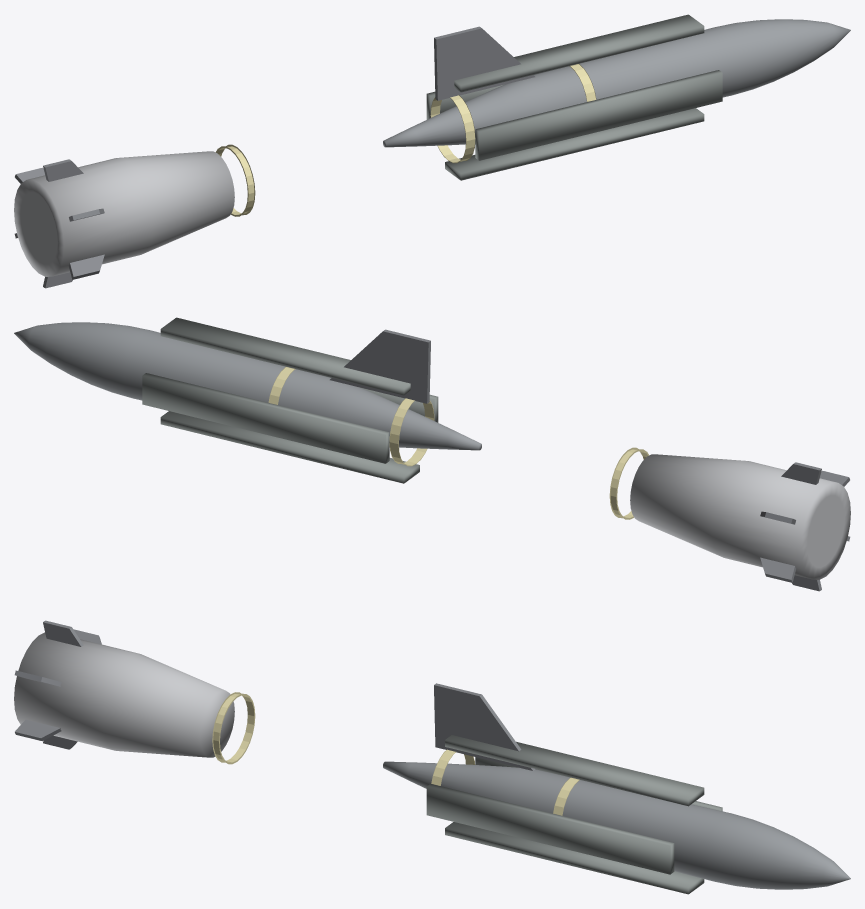
The model's file is RU_ASM_P500_LOD1.fbx.
The picture shows the model from 3 angles, top to bottom: view 1: azimuth 30°, elevation 25°; view 2: azimuth 150°, elevation 25°; view 3: azimuth 330°, elevation 25°; orthographic projection.
Parts seen in each view (by area): view 1: WPN_RU_ASM_P500_LOD1_Tail, WPN_RU_ASM_P500_LOD1_Body, WPN_RU_ASM_P500_LOD1_Nose, WPN_RU_ASM_P500_LOD1_Wings, WPN_RU_ASM_P500_LOD1_Marking, WPN_RU_ASM_P500_LOD1_Fins; view 2: WPN_RU_ASM_P500_LOD1_Tail, WPN_RU_ASM_P500_LOD1_Body, WPN_RU_ASM_P500_LOD1_Nose, WPN_RU_ASM_P500_LOD1_Wings, WPN_RU_ASM_P500_LOD1_Marking, WPN_RU_ASM_P500_LOD1_Fins; view 3: WPN_RU_ASM_P500_LOD1_Body, WPN_RU_ASM_P500_LOD1_Tail, WPN_RU_ASM_P500_LOD1_Nose, WPN_RU_ASM_P500_LOD1_Wings, WPN_RU_ASM_P500_LOD1_Marking, WPN_RU_ASM_P500_LOD1_Fins.
Part boxes in pixels (<box>): WPN_RU_ASM_P500_LOD1_Tail: <box>14,151,234,276</box>; WPN_RU_ASM_P500_LOD1_Body: <box>383,19,850,147</box>; WPN_RU_ASM_P500_LOD1_Nose: <box>426,14,722,180</box>; WPN_RU_ASM_P500_LOD1_Wings: <box>434,26,534,100</box>; WPN_RU_ASM_P500_LOD1_Marking: <box>215,64,596,216</box>; WPN_RU_ASM_P500_LOD1_Fins: <box>14,159,104,288</box>; WPN_RU_ASM_P500_LOD1_Tail: <box>630,454,850,579</box>; WPN_RU_ASM_P500_LOD1_Body: <box>14,322,481,450</box>; WPN_RU_ASM_P500_LOD1_Nose: <box>142,317,438,483</box>; WPN_RU_ASM_P500_LOD1_Wings: <box>330,329,430,403</box>; WPN_RU_ASM_P500_LOD1_Marking: <box>268,367,649,519</box>; WPN_RU_ASM_P500_LOD1_Fins: <box>760,462,850,591</box>; WPN_RU_ASM_P500_LOD1_Body: <box>383,761,850,889</box>; WPN_RU_ASM_P500_LOD1_Tail: <box>14,632,234,757</box>; WPN_RU_ASM_P500_LOD1_Nose: <box>426,735,722,894</box>; WPN_RU_ASM_P500_LOD1_Wings: <box>434,683,535,770</box>; WPN_RU_ASM_P500_LOD1_Marking: <box>212,692,579,815</box>; WPN_RU_ASM_P500_LOD1_Fins: <box>14,620,101,749</box>.
Bounding box in the file's own units: 11.7 × 1.47 × 2.12.
